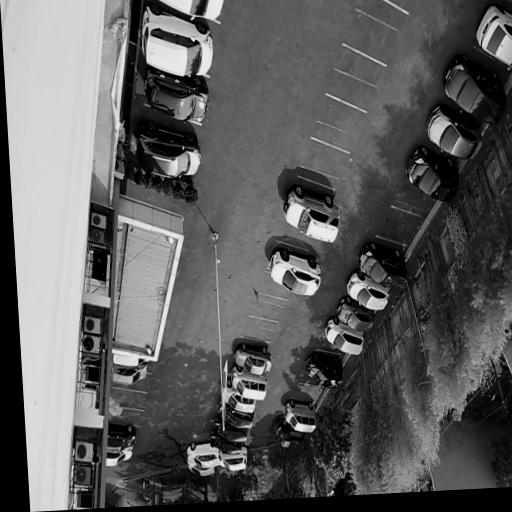Car: (138, 0, 221, 88), (437, 50, 512, 132), (136, 116, 207, 181), (420, 101, 490, 166), (401, 141, 467, 206), (278, 183, 345, 247), (143, 65, 213, 125), (265, 245, 325, 300), (354, 240, 412, 293), (470, 0, 512, 72), (343, 267, 393, 312), (160, 0, 226, 31), (322, 314, 366, 358), (303, 351, 346, 391), (335, 295, 377, 334), (229, 363, 270, 402), (280, 398, 318, 434), (232, 343, 273, 375), (220, 380, 257, 414), (216, 399, 256, 429), (211, 413, 250, 443), (208, 426, 245, 455), (273, 418, 307, 448), (186, 443, 223, 468), (107, 423, 137, 453), (112, 362, 148, 385), (221, 446, 249, 471), (106, 444, 134, 466), (186, 458, 216, 477), (113, 353, 151, 367)
Space Available: (343, 0, 408, 68), (325, 46, 387, 113), (310, 94, 367, 154), (298, 138, 350, 191), (376, 207, 423, 247), (392, 184, 435, 218), (249, 295, 288, 323), (276, 223, 313, 252), (244, 317, 279, 342), (111, 388, 147, 412), (110, 406, 144, 428), (291, 383, 324, 403), (113, 377, 151, 394), (259, 281, 291, 300), (315, 341, 347, 357)
